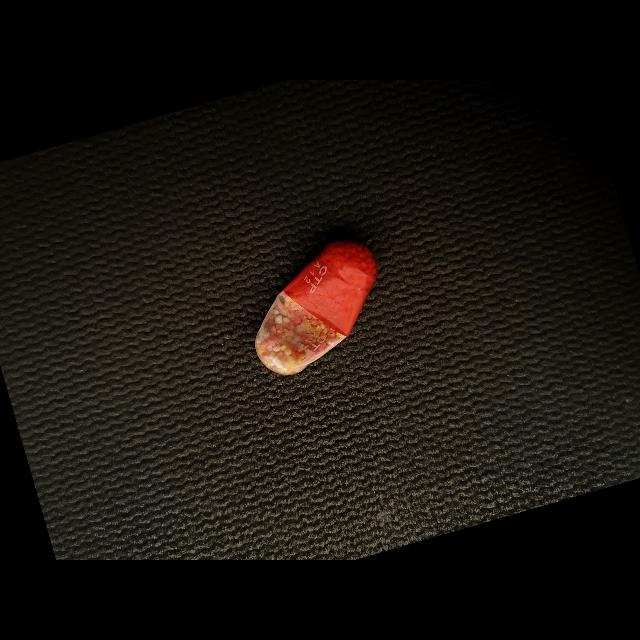Defective Capsule: (255, 240, 377, 375)
